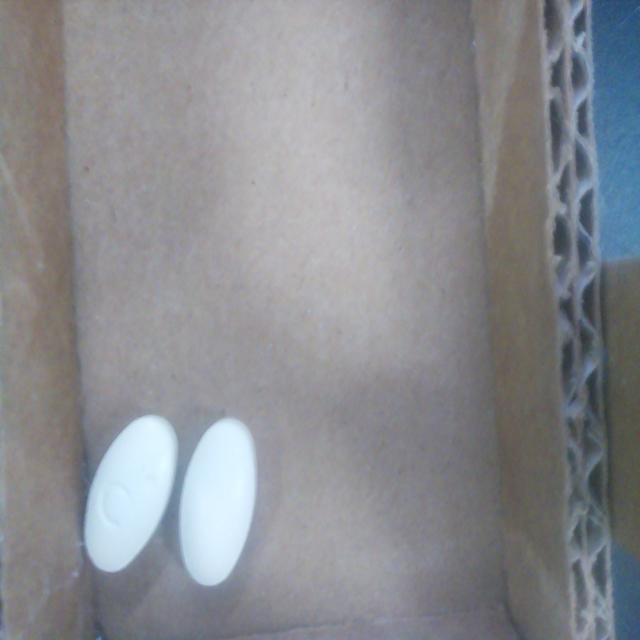pill: (83, 415, 179, 573), (178, 418, 258, 586)
